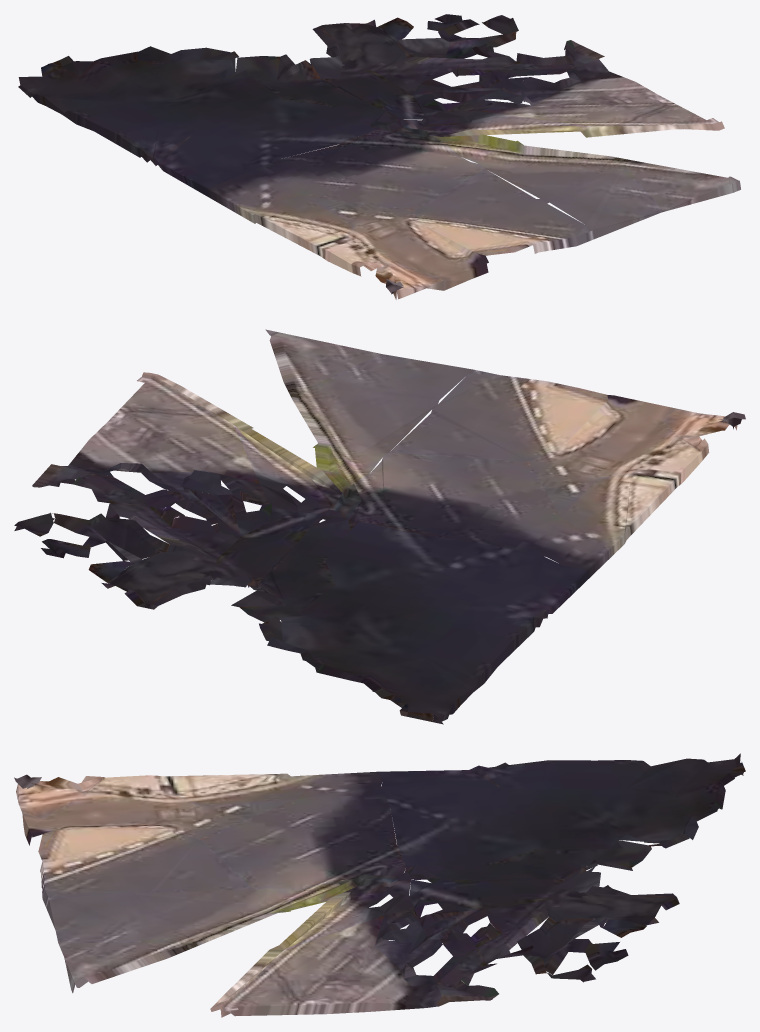
3 renders of one model, top to bottom at view 1: azimuth 30°, elevation 25°; view 2: azimuth 150°, elevation 25°; view 3: azimuth 270°, elevation 25°, orthographic. The views are drawn at different scales.
Parts seen in each view (by area): view 1: Mesh_0; view 2: Mesh_0; view 3: Mesh_0.
Boxes of the visible parts, x1,y1,x2,y2 form: Mesh_0: [18, 14, 740, 299]; Mesh_0: [14, 329, 745, 724]; Mesh_0: [14, 753, 745, 1017].
Size of the model in its own units: 33.21 by 1.5 by 38.45.
1 material, 1 textured.
